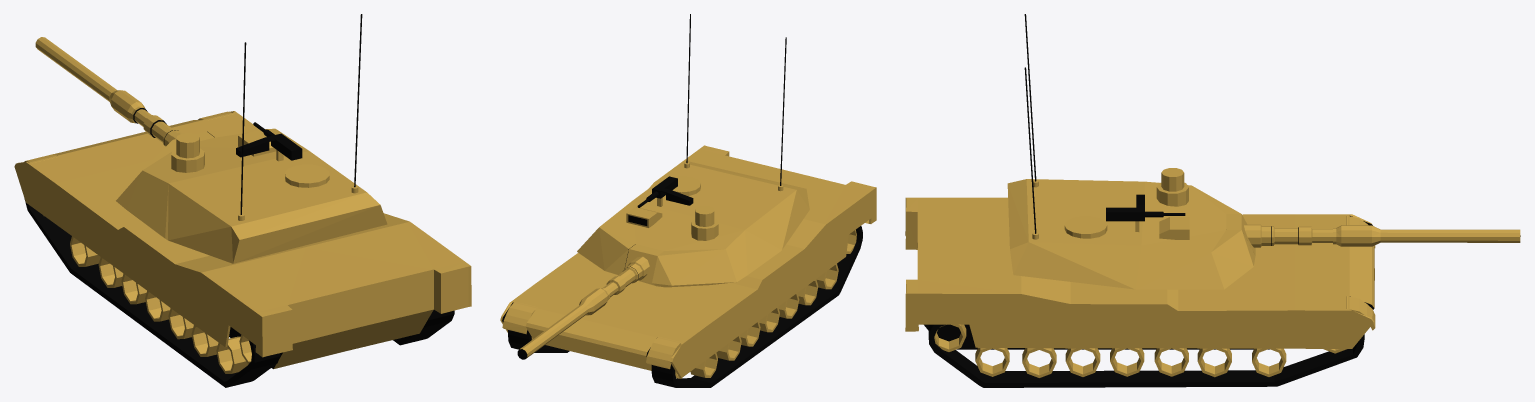
3 views of the same model, side by side, from view 1: azimuth 30°, elevation 25°; view 2: azimuth 150°, elevation 25°; view 3: azimuth 270°, elevation 25° (orthographic). The views are drawn at different scales.
Visible parts, largest first — view 1: ShapeIndexedFaceSet_ShapeIndexedFaceSet.001, ShapeIndexedFaceSet.002_ShapeIndexedFaceSet.003, ShapeIndexedFaceSet.016_ShapeIndexedFaceSet.017, ShapeIndexedFaceSet.017_ShapeIndexedFaceSet.018, ShapeIndexedFaceSet.011_ShapeIndexedFaceSet.012, ShapeIndexedFaceSet.013_ShapeIndexedFaceSet.014, ShapeIndexedFaceSet.005_ShapeIndexedFaceSet.006, ShapeIndexedFaceSet.010_ShapeIndexedFaceSet.011, ShapeIndexedFaceSet.009_ShapeIndexedFaceSet.010; view 2: ShapeIndexedFaceSet_ShapeIndexedFaceSet.001, ShapeIndexedFaceSet.002_ShapeIndexedFaceSet.003, ShapeIndexedFaceSet.016_ShapeIndexedFaceSet.017, ShapeIndexedFaceSet.011_ShapeIndexedFaceSet.012, ShapeIndexedFaceSet.017_ShapeIndexedFaceSet.018, ShapeIndexedFaceSet.015_ShapeIndexedFaceSet.016, ShapeIndexedFaceSet.013_ShapeIndexedFaceSet.014, ShapeIndexedFaceSet.005_ShapeIndexedFaceSet.006, ShapeIndexedFaceSet.009_ShapeIndexedFaceSet.010, ShapeIndexedFaceSet.006_ShapeIndexedFaceSet.007, ShapeIndexedFaceSet.010_ShapeIndexedFaceSet.011; view 3: ShapeIndexedFaceSet_ShapeIndexedFaceSet.001, ShapeIndexedFaceSet.002_ShapeIndexedFaceSet.003, ShapeIndexedFaceSet.016_ShapeIndexedFaceSet.017, ShapeIndexedFaceSet.011_ShapeIndexedFaceSet.012, ShapeIndexedFaceSet.017_ShapeIndexedFaceSet.018, ShapeIndexedFaceSet.013_ShapeIndexedFaceSet.014, ShapeIndexedFaceSet.005_ShapeIndexedFaceSet.006, ShapeIndexedFaceSet.001_ShapeIndexedFaceSet.002, ShapeIndexedFaceSet.010_ShapeIndexedFaceSet.011, ShapeIndexedFaceSet.009_ShapeIndexedFaceSet.010, ShapeIndexedFaceSet.006_ShapeIndexedFaceSet.007, ShapeIndexedFaceSet.015_ShapeIndexedFaceSet.016.
Part boxes in pixels (x1,y1,x2,y2): ShapeIndexedFaceSet_ShapeIndexedFaceSet.001: (14, 111, 471, 369); ShapeIndexedFaceSet.002_ShapeIndexedFaceSet.003: (116, 128, 387, 263); ShapeIndexedFaceSet.016_ShapeIndexedFaceSet.017: (24, 199, 454, 387); ShapeIndexedFaceSet.017_ShapeIndexedFaceSet.018: (70, 236, 248, 373); ShapeIndexedFaceSet.011_ShapeIndexedFaceSet.012: (35, 37, 214, 146); ShapeIndexedFaceSet.013_ShapeIndexedFaceSet.014: (171, 133, 204, 172); ShapeIndexedFaceSet.005_ShapeIndexedFaceSet.006: (236, 122, 302, 160); ShapeIndexedFaceSet.010_ShapeIndexedFaceSet.011: (285, 164, 329, 187); ShapeIndexedFaceSet.009_ShapeIndexedFaceSet.010: (240, 14, 362, 214); ShapeIndexedFaceSet_ShapeIndexedFaceSet.001: (500, 145, 876, 377); ShapeIndexedFaceSet.002_ShapeIndexedFaceSet.003: (577, 161, 809, 287); ShapeIndexedFaceSet.016_ShapeIndexedFaceSet.017: (508, 226, 862, 387); ShapeIndexedFaceSet.011_ShapeIndexedFaceSet.012: (520, 244, 663, 358); ShapeIndexedFaceSet.017_ShapeIndexedFaceSet.018: (690, 264, 838, 377); ShapeIndexedFaceSet.015_ShapeIndexedFaceSet.016: (502, 301, 680, 369); ShapeIndexedFaceSet.013_ShapeIndexedFaceSet.014: (691, 206, 718, 240); ShapeIndexedFaceSet.005_ShapeIndexedFaceSet.006: (637, 176, 693, 207); ShapeIndexedFaceSet.009_ShapeIndexedFaceSet.010: (686, 14, 786, 185); ShapeIndexedFaceSet.006_ShapeIndexedFaceSet.007: (626, 207, 662, 227); ShapeIndexedFaceSet.010_ShapeIndexedFaceSet.011: (672, 176, 700, 195); ShapeIndexedFaceSet_ShapeIndexedFaceSet.001: (905, 197, 1374, 348); ShapeIndexedFaceSet.002_ShapeIndexedFaceSet.003: (1007, 179, 1255, 289); ShapeIndexedFaceSet.016_ShapeIndexedFaceSet.017: (928, 324, 1364, 387); ShapeIndexedFaceSet.011_ShapeIndexedFaceSet.012: (1226, 214, 1520, 255); ShapeIndexedFaceSet.017_ShapeIndexedFaceSet.018: (975, 348, 1286, 377); ShapeIndexedFaceSet.013_ShapeIndexedFaceSet.014: (1156, 168, 1188, 206); ShapeIndexedFaceSet.005_ShapeIndexedFaceSet.006: (1106, 194, 1185, 221); ShapeIndexedFaceSet.001_ShapeIndexedFaceSet.002: (924, 216, 1374, 349); ShapeIndexedFaceSet.010_ShapeIndexedFaceSet.011: (1064, 216, 1107, 238); ShapeIndexedFaceSet.009_ShapeIndexedFaceSet.010: (1024, 14, 1036, 233); ShapeIndexedFaceSet.006_ShapeIndexedFaceSet.007: (1159, 217, 1189, 239); ShapeIndexedFaceSet.015_ShapeIndexedFaceSet.016: (1346, 216, 1375, 330).
Bounding box in the file's own units: 39.77 × 57.98 × 107.
